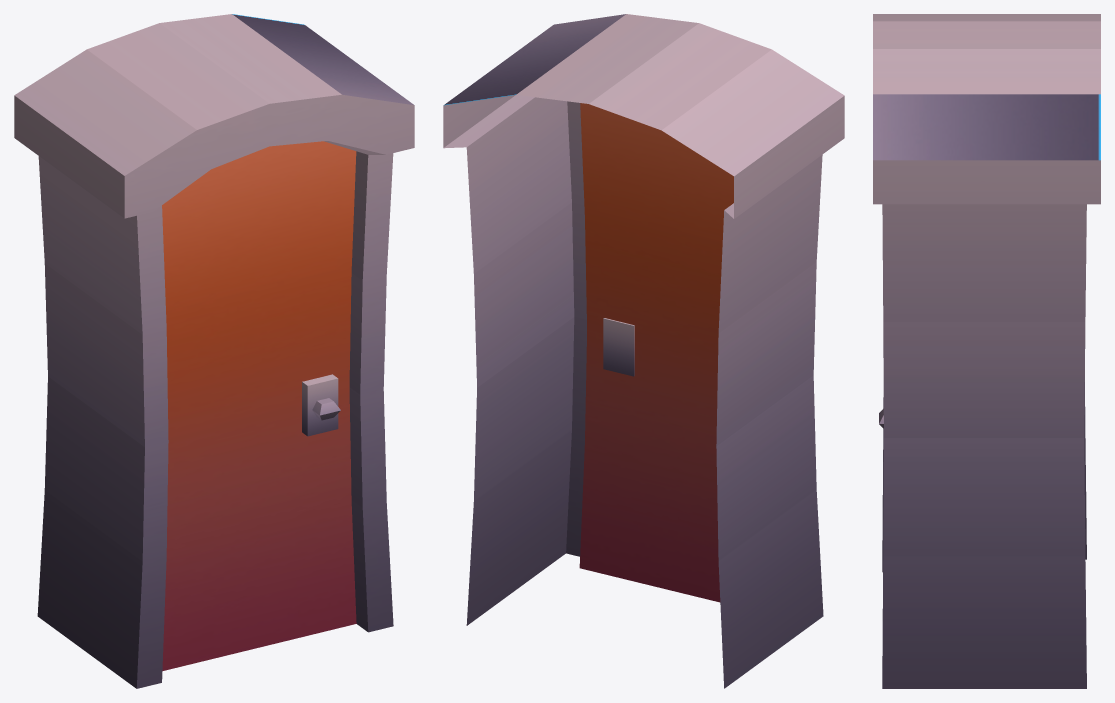
File: Door 2.fbx
The picture shows the model from 3 angles, left to right: view 1: azimuth 30°, elevation 25°; view 2: azimuth 150°, elevation 25°; view 3: azimuth 270°, elevation 25°; orthographic projection. The views are drawn at different scales.
Parts seen in each view (by area): view 1: Door 2; view 2: Door 2; view 3: Door 2.
Part boxes in pixels (left/top/right/bottom): Door 2: left=14, top=14, right=414, bottom=688; Door 2: left=443, top=14, right=844, bottom=688; Door 2: left=873, top=14, right=1100, bottom=688.
Size of the model in its own units: 114 by 209 by 75.15.
